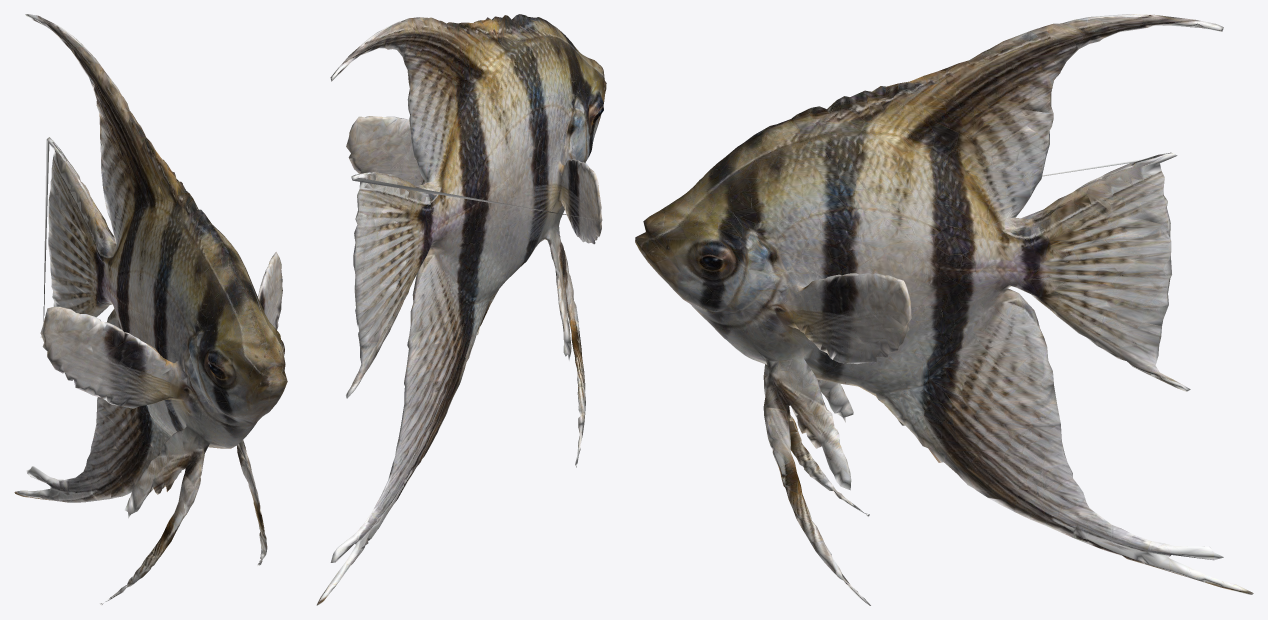
The model's file is fish_angelfish.glb.
The picture shows the model from 3 angles, left to right: view 1: azimuth 30°, elevation 25°; view 2: azimuth 150°, elevation 25°; view 3: azimuth 270°, elevation 25°; orthographic projection. The views are drawn at different scales.
Parts seen in each view (by area): view 1: geometry_0; view 2: geometry_0; view 3: geometry_0.
Part boxes in pixels (left/top/right/bottom): geometry_0: left=14, top=14, right=287, bottom=605; geometry_0: left=316, top=14, right=606, bottom=605; geometry_0: left=635, top=14, right=1253, bottom=605.
Size of the model in its own units: 0.9867 by 1.96 by 1.89.
Materials: 1 (1 with a texture image).
